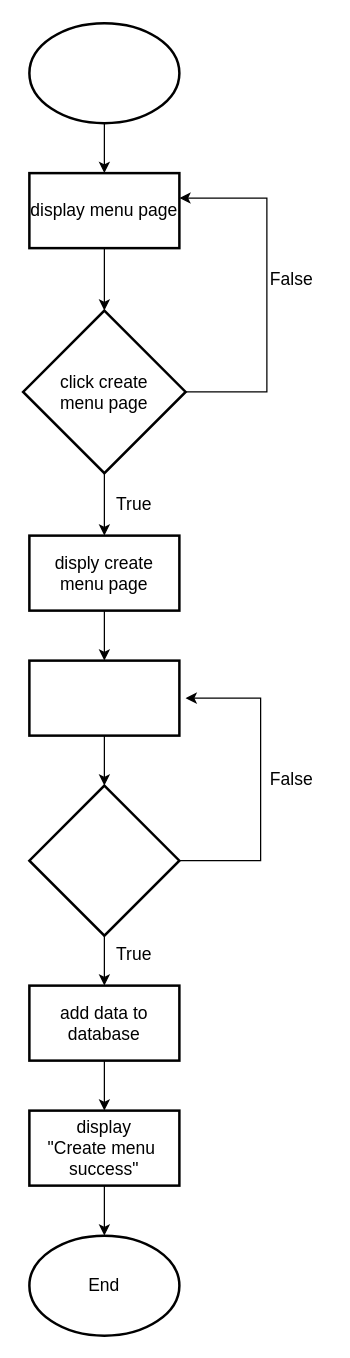
The diagram is 350 pixels wide and 1358 high, and some of its shapes have lost their labels. The shapes that lost their labels are listed below. From the top down, each one's box as (x1, y1, x2, y2) in pixels, then its label:
(28, 21, 180, 124): start
(28, 659, 180, 736): input data
(28, 784, 180, 936): check empty and validate
